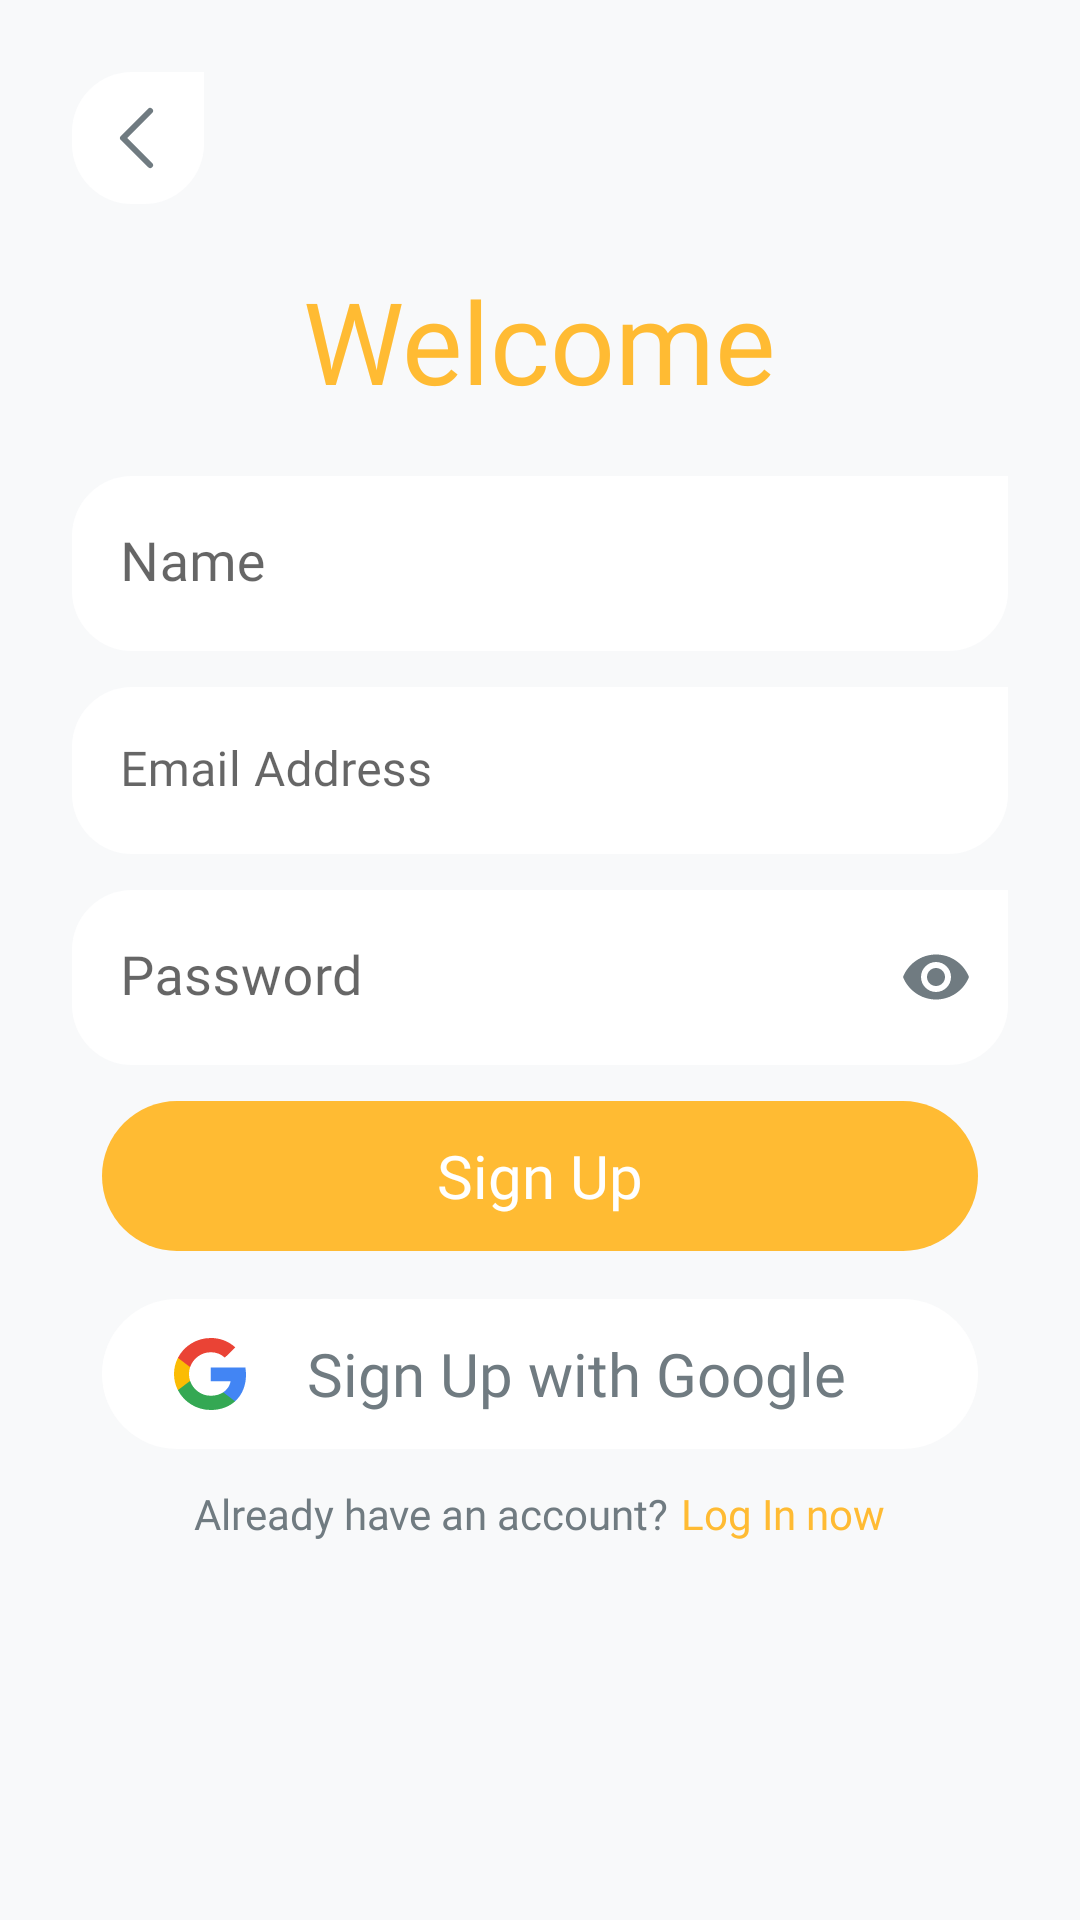

Named icons in this screenshot (1080×1920) and their centers, [x,y]:
chevron left: [136,138]
